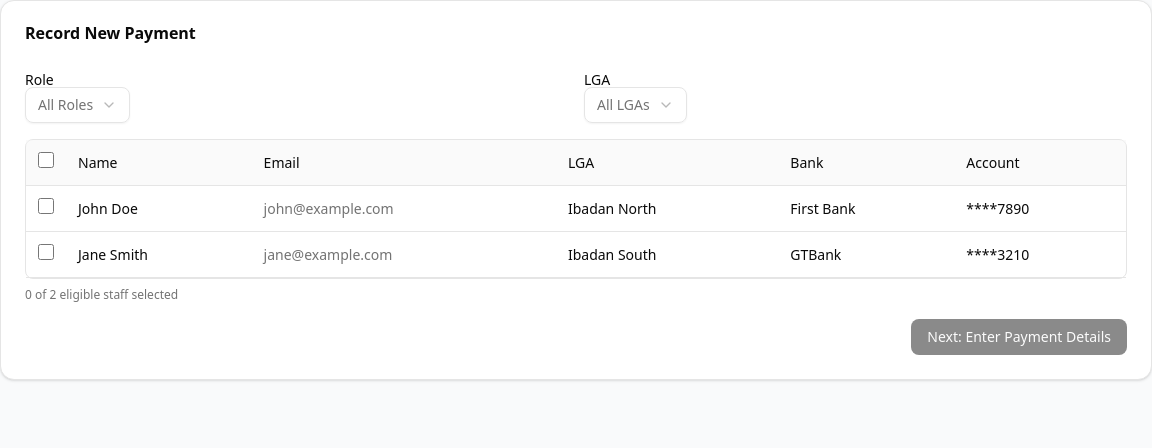
BulkRecordingForm › proceeds to step 2 and shows batch detail fields
Step 1. Click the checkbox named "Select John Doe" → (46, 206), box 38,198 -> 54,214
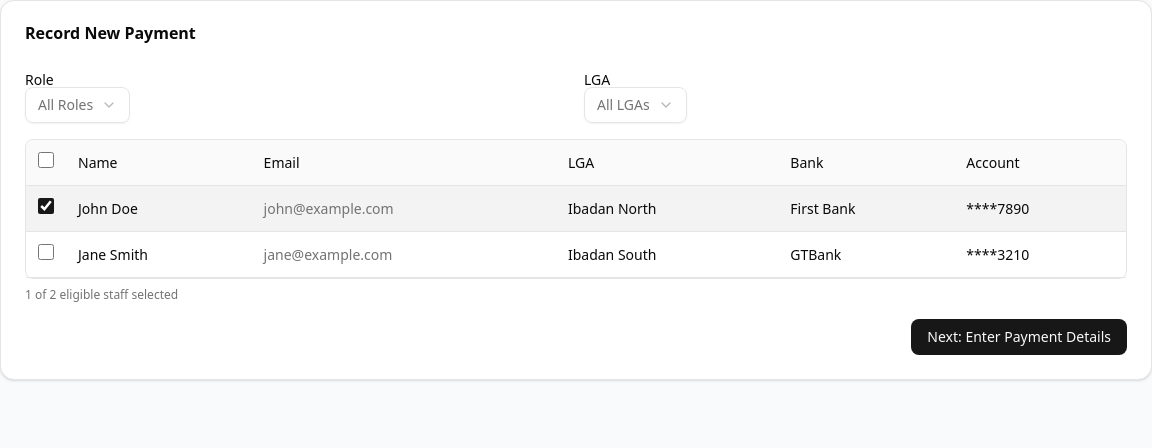
Step 2. Click the button with test id "proceed-to-step-2" → (1019, 337), box 911,319 -> 1127,355
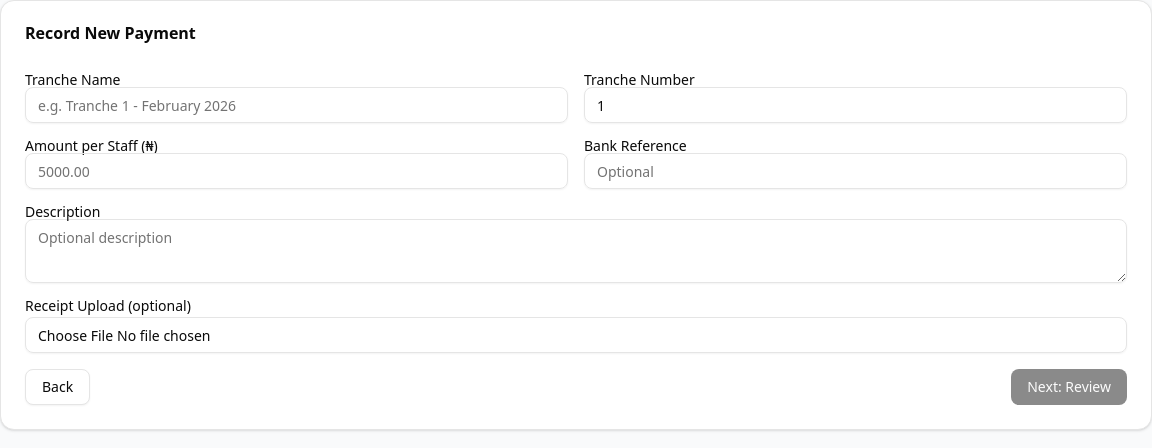
Expected: the element with test id "step-2" is shown
Expected: the field with test id "tranche-name" is shown, 25,87 -> 568,123
Expected: the number field with test id "amount-input" is shown, 25,153 -> 568,189
